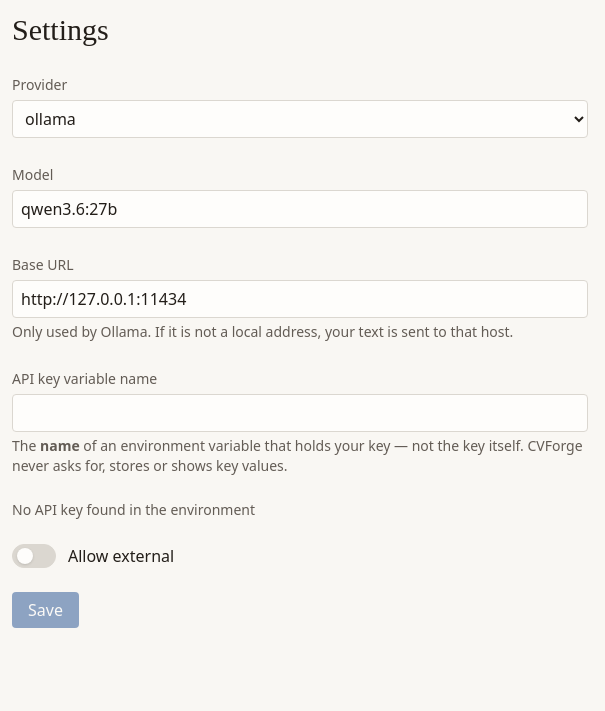
SettingsPage › warns when allow external is on, and sends it on save
Click the switch named "Allow external". click: (34, 556)
box: x1=12 y1=544 x2=56 y2=568
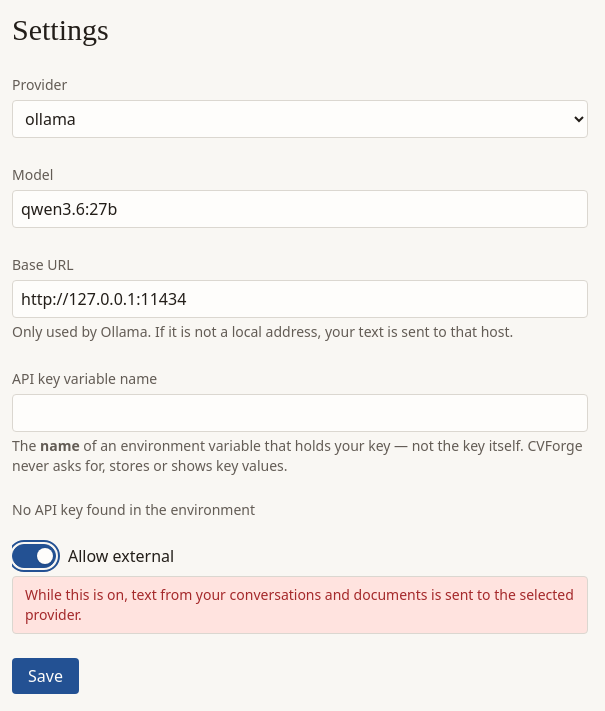
Expected: the text "While this is on, text from your conversations and documents is sent to the selected provider." is shown, x1=25 y1=585 x2=574 y2=624
Click the button "Save". click: (45, 676)
box: x1=12 y1=658 x2=79 y2=694
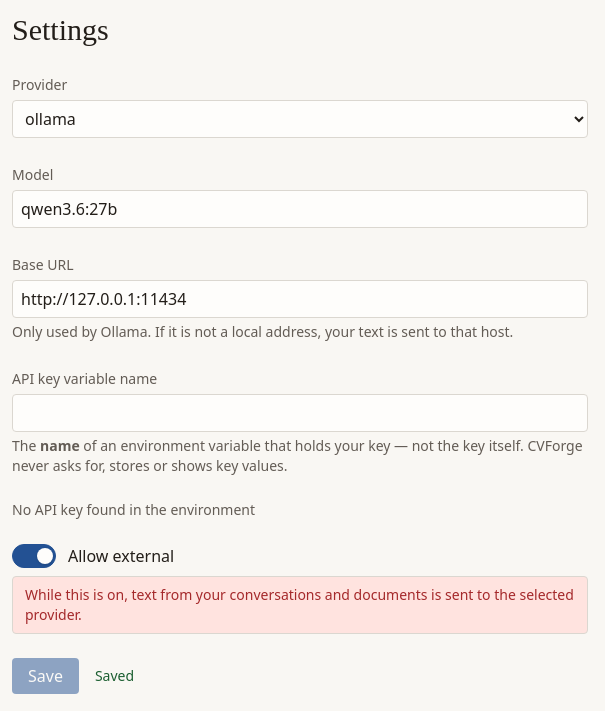
Expected: the message reads "Saved", x1=95 y1=666 x2=134 y2=685
